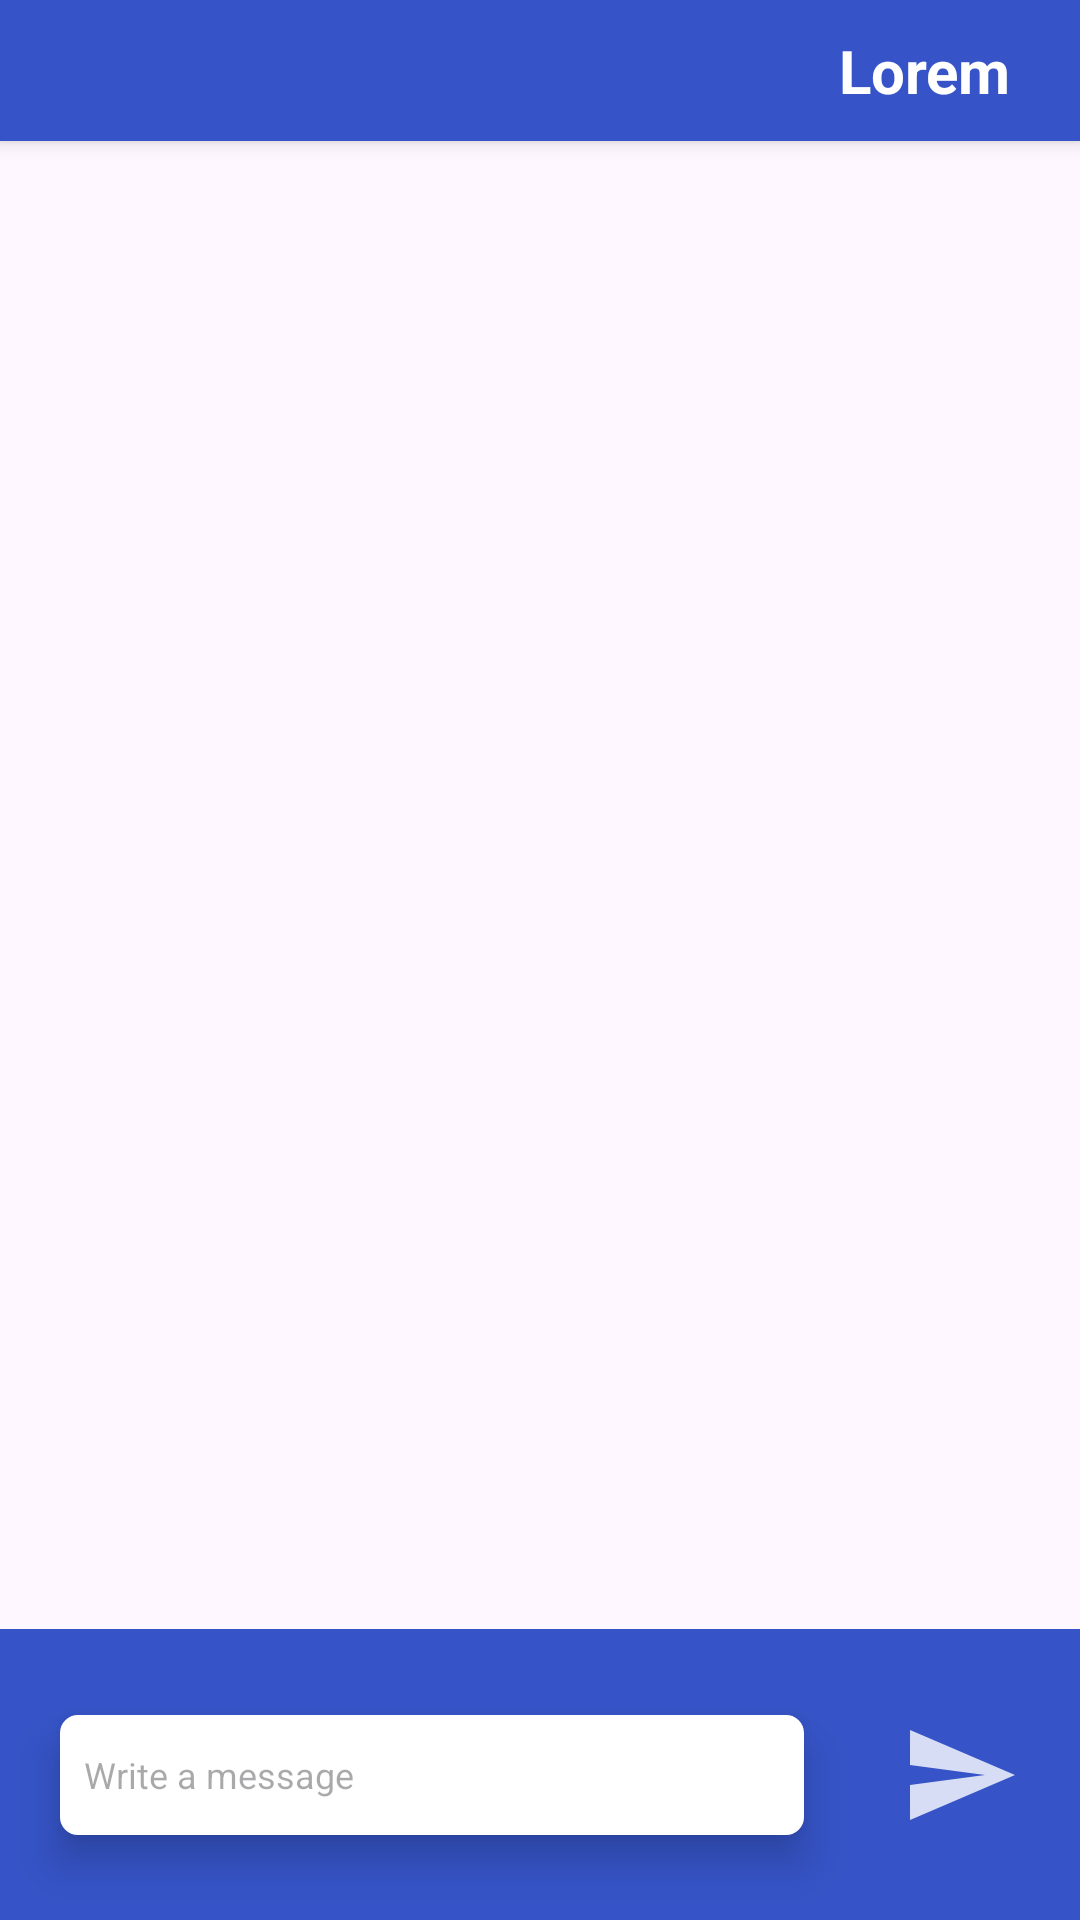

Screen size 1080px x 1920px. Icon name, then its box in pixels as (x1, y1, x2, y2):
send: (910, 1730, 1015, 1820)
